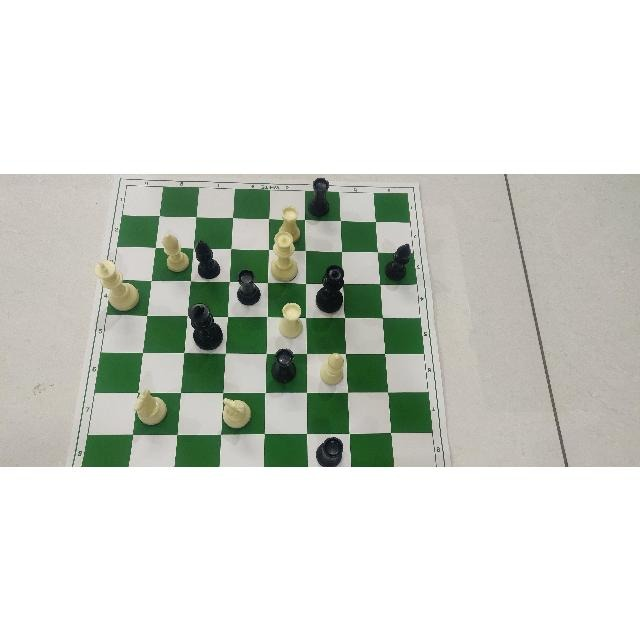black-bishop: (192, 236, 224, 276), (388, 243, 410, 283)
black-king: (183, 303, 223, 353)
black-queen: (314, 263, 346, 314)
black-rook: (268, 347, 302, 386), (315, 434, 349, 465), (308, 177, 332, 219), (235, 271, 263, 307)
white-bishop: (161, 231, 189, 273), (320, 353, 348, 387)
white-king: (94, 260, 139, 312)
white-knight: (131, 387, 171, 422), (223, 395, 253, 429)
white-queen: (270, 230, 297, 281)
white-rook: (278, 299, 307, 337), (276, 203, 301, 241)
